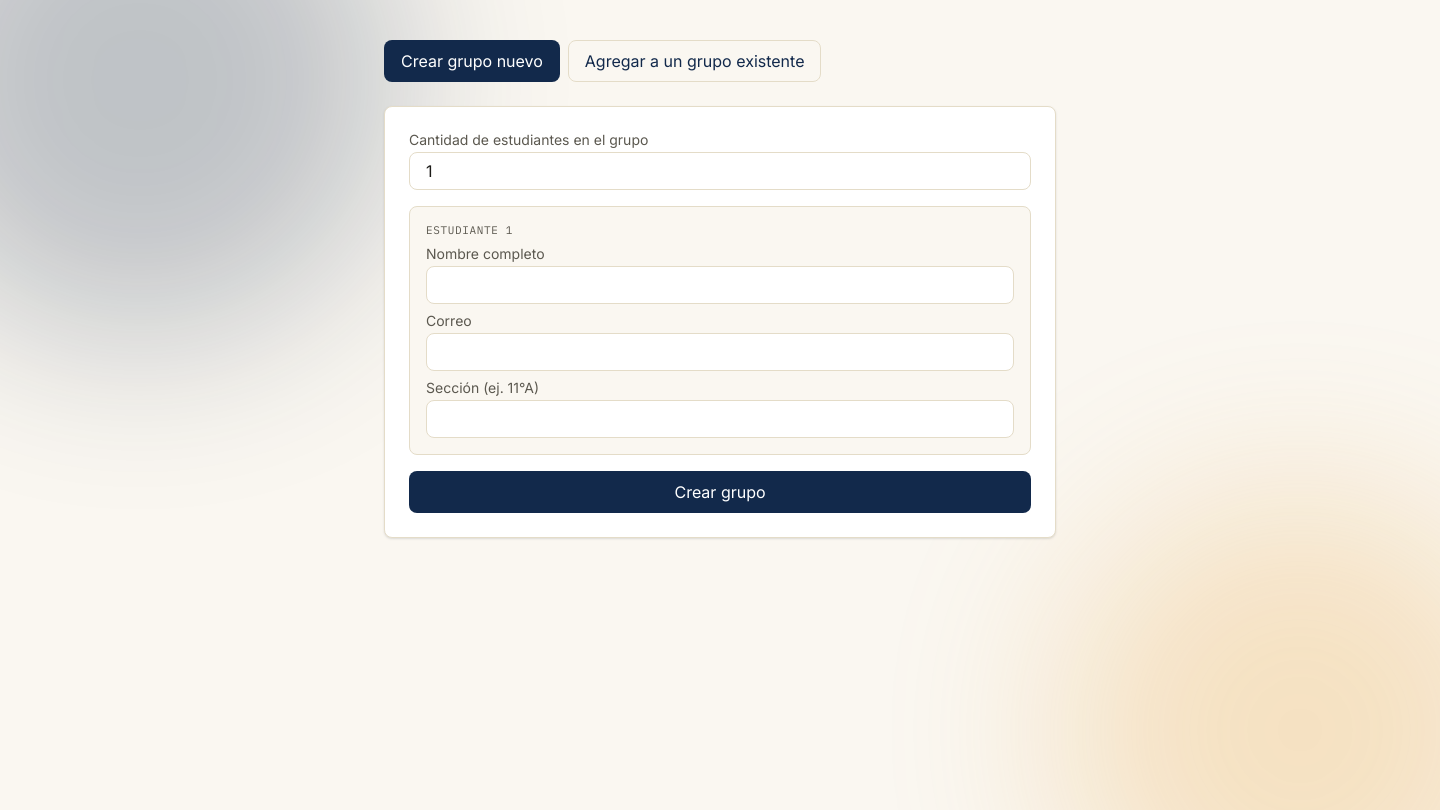
Test: AdminStudentsPage — modo "grupo nuevo" › crea el grupo y muestra la tabla de credenciales
Type "Ana Estudiante" into the field labelled "Nombre completo" at (720, 285), box x1=426 y1=266 x2=1014 y2=304
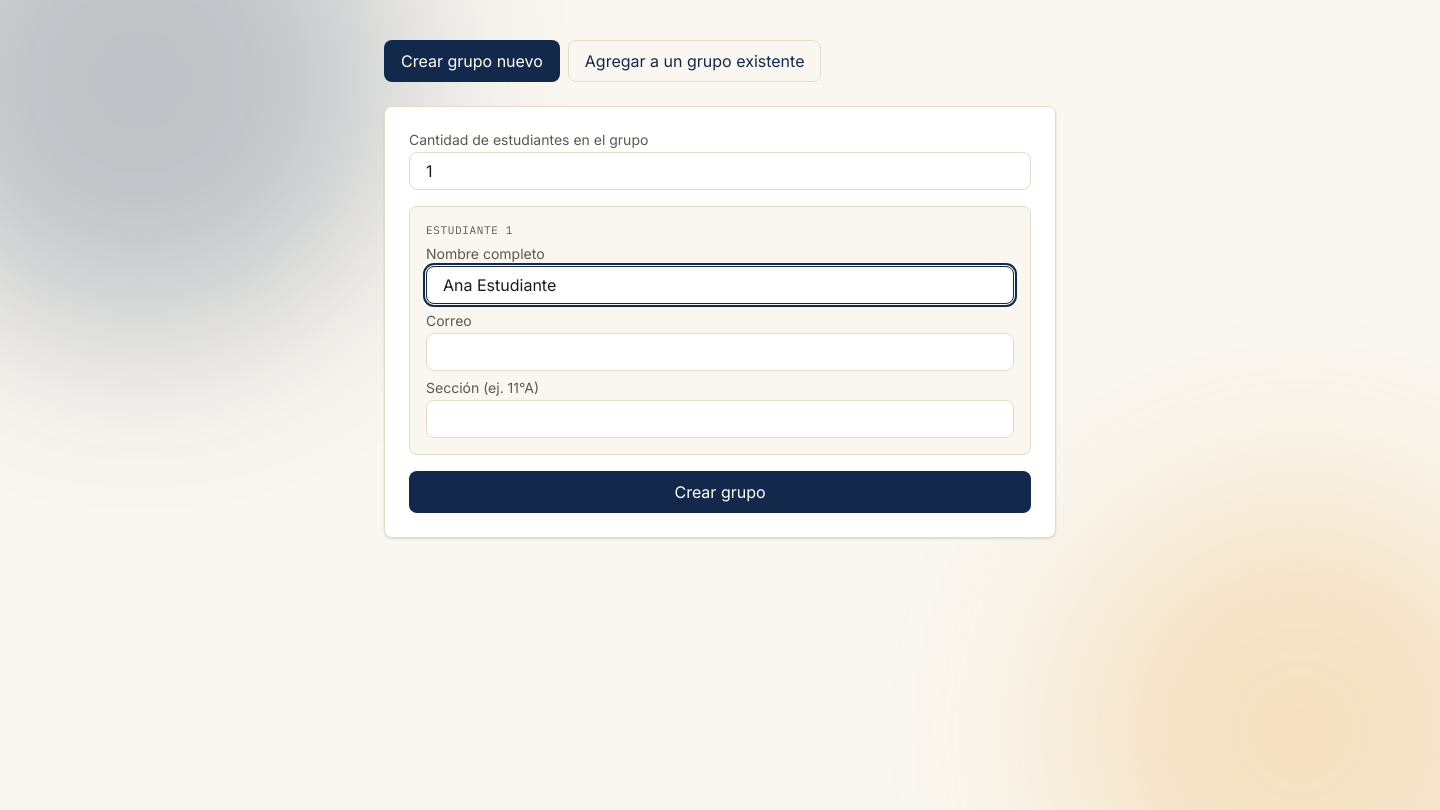
Type "ana@lasalle.edu.co" into the field labelled "Correo" at (720, 352), box x1=426 y1=333 x2=1014 y2=371
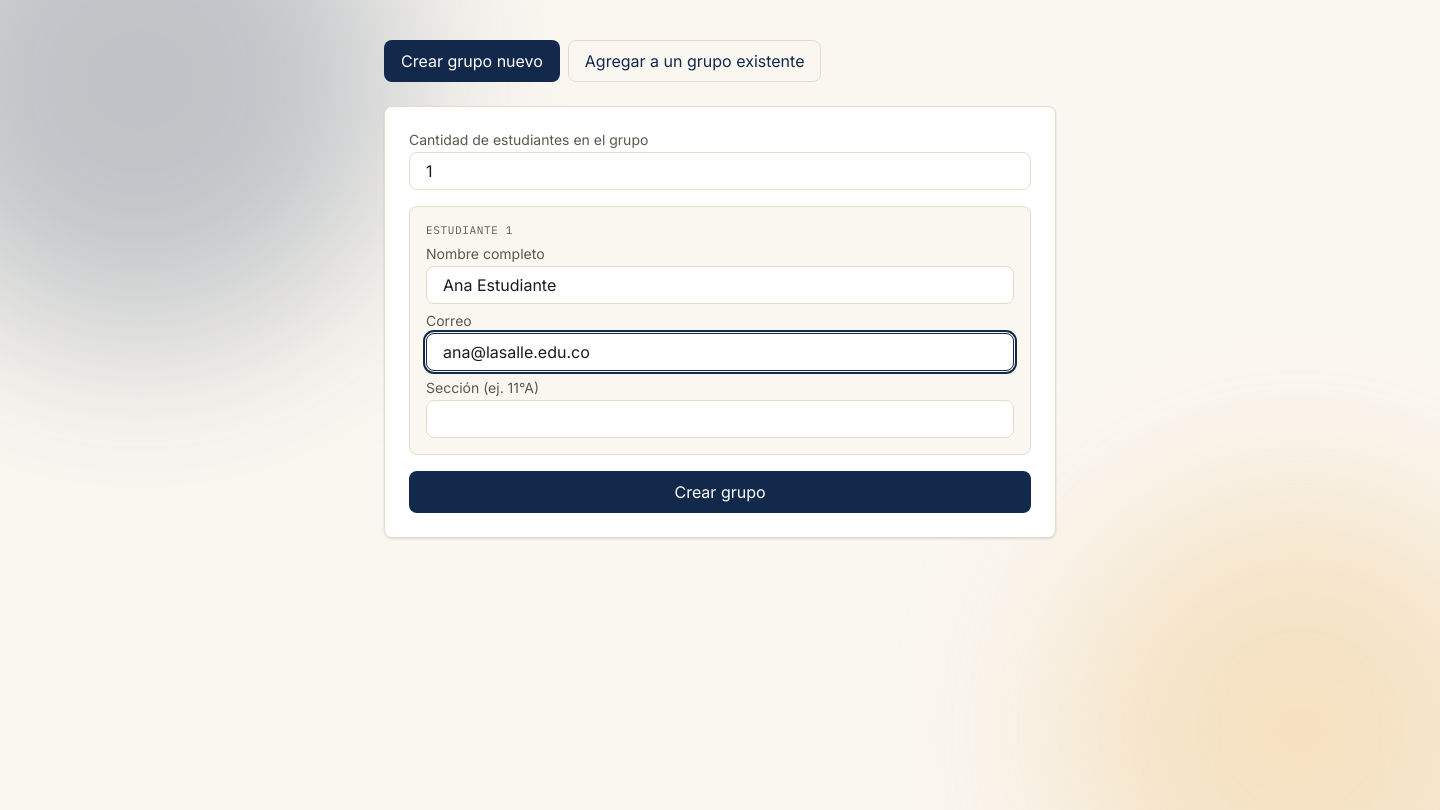
Type "11°A" into the field labelled "Sección (ej. 11°A)" at (720, 419), box x1=426 y1=400 x2=1014 y2=438
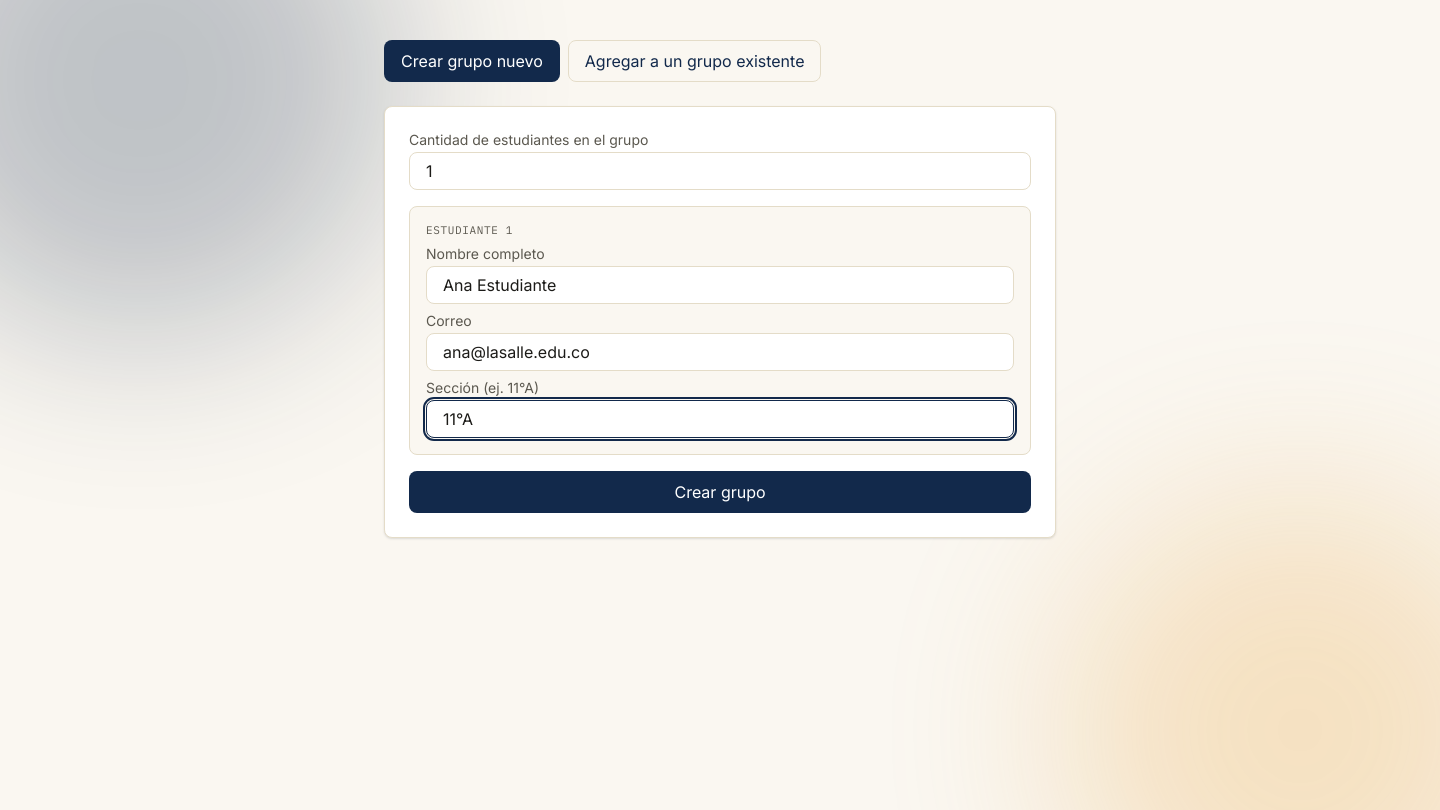
Click the button "Crear grupo" at (720, 492), box x1=409 y1=471 x2=1031 y2=513
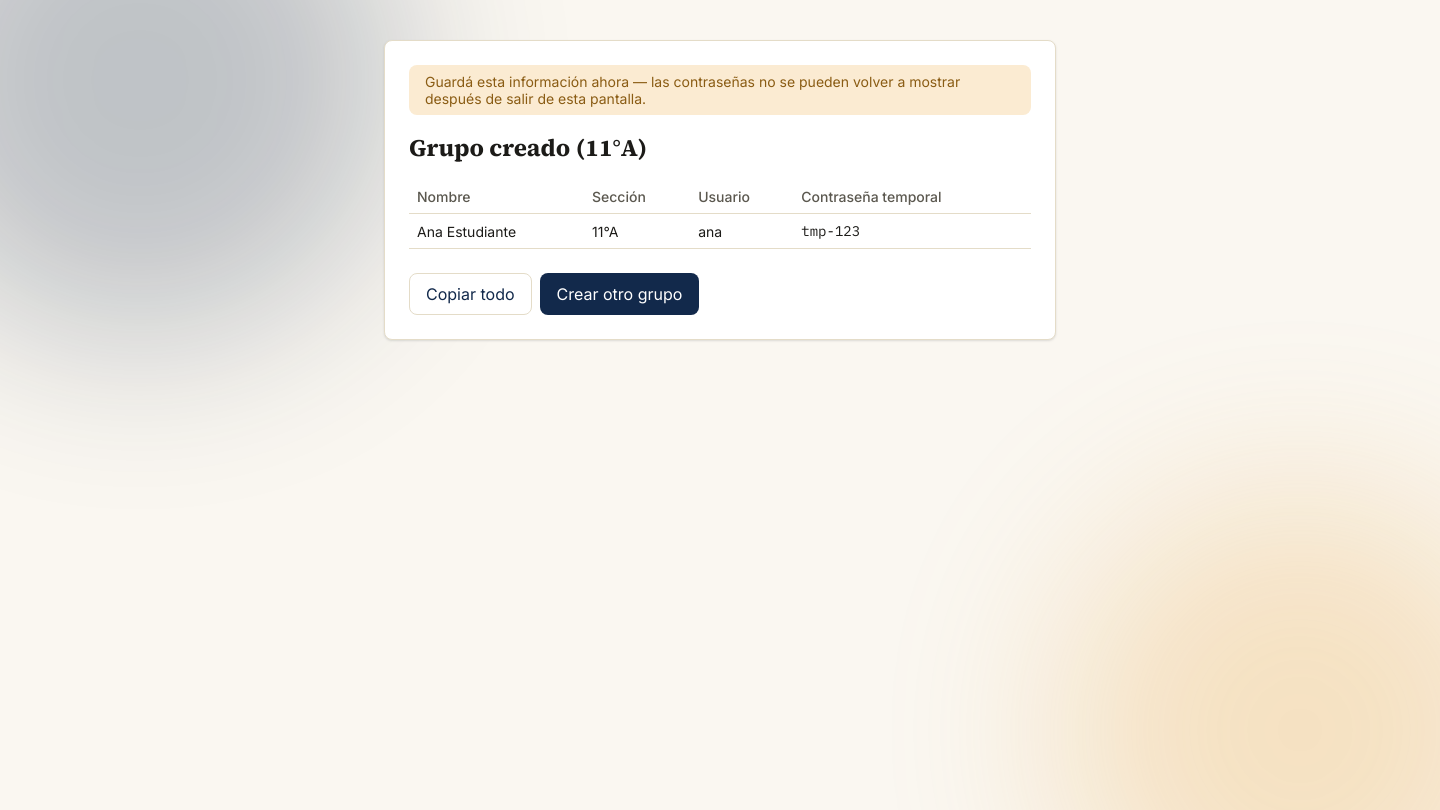
Expected: the heading "Grupo creado (11°A)" is shown, x1=409 y1=131 x2=647 y2=164
Expected: the text "tmp-123" is shown, x1=793 y1=214 x2=1031 y2=248
